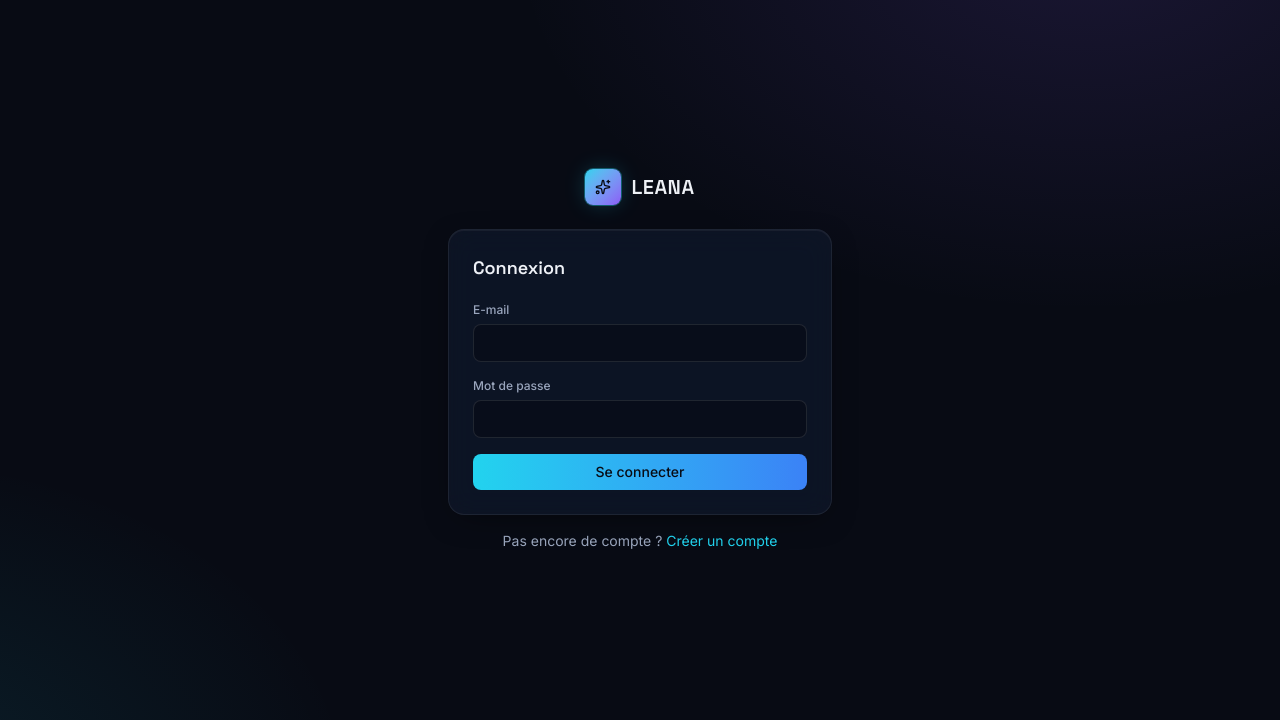
Test: login › shows a readable error on bad credentials
The width and height of the screenshot is (1280, 720).
Type "alice@example.test" into the field labelled "E-mail". click: (640, 343)
box: [473, 324, 807, 362]
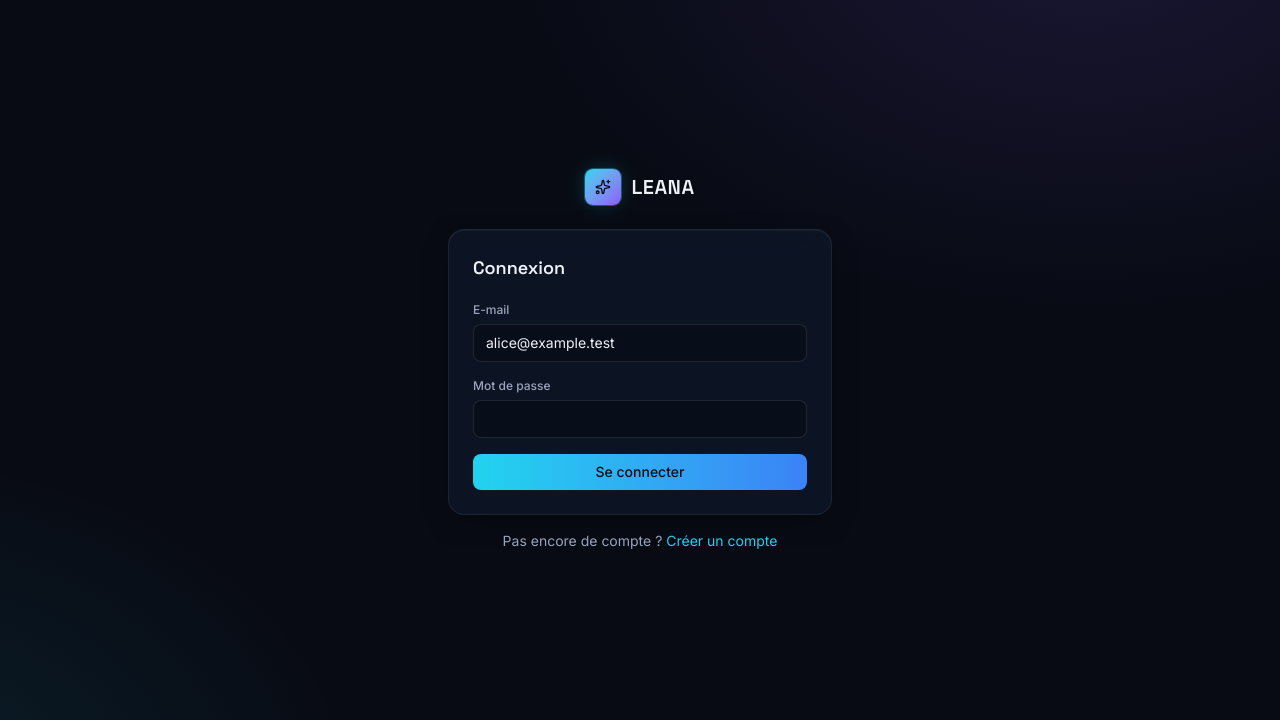
Type "wrong-password" into the password field labelled "Mot de passe". click: (640, 419)
box: [473, 400, 807, 438]
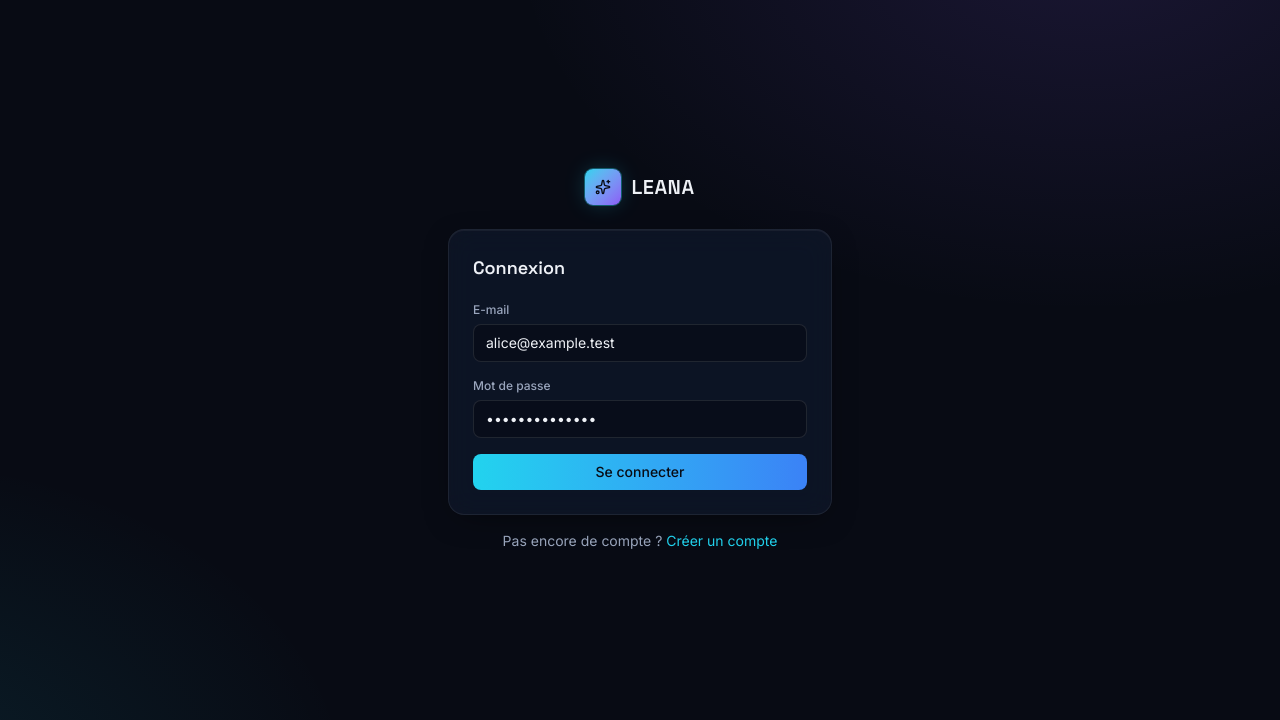
Click the button "Se connecter". click: (640, 472)
box: [473, 454, 807, 490]
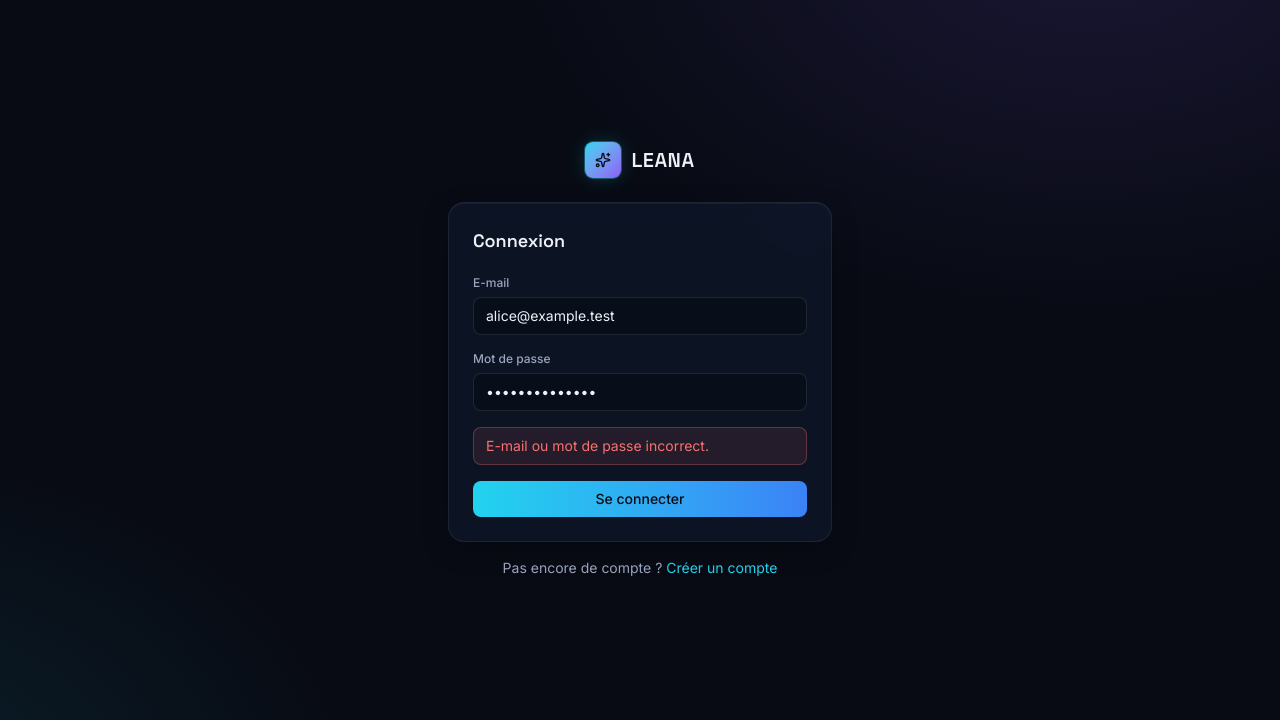
expect the message reads "E-mail ou mot de passe incorrect.": met, box [486, 437, 709, 454]
